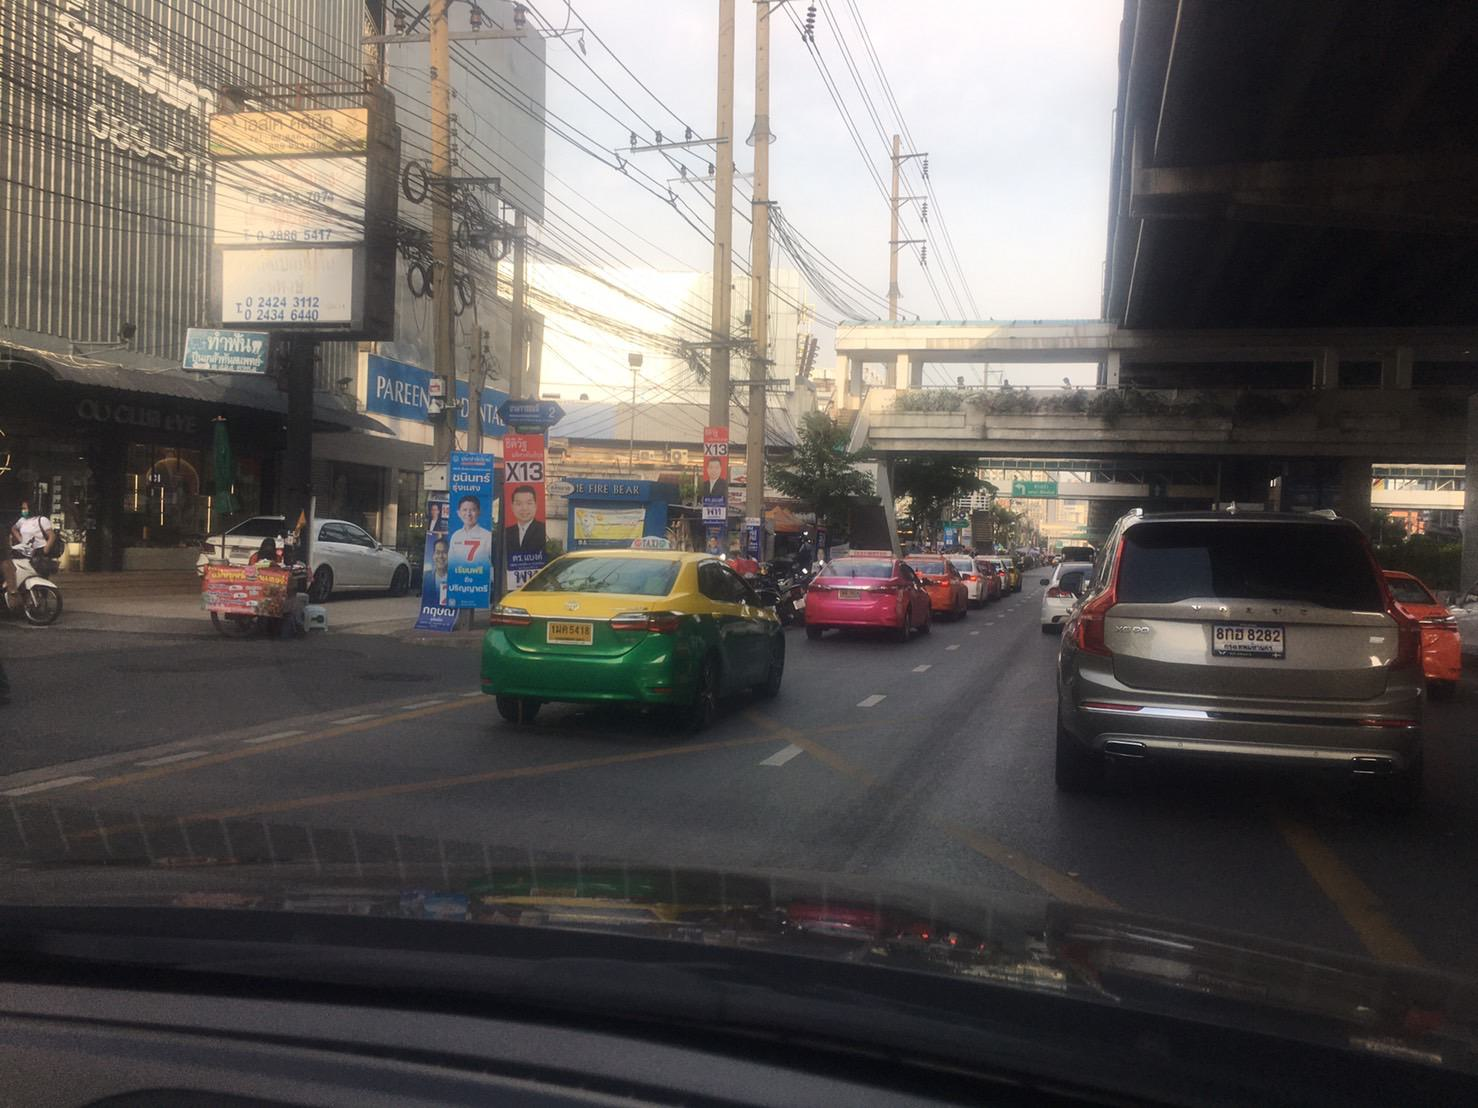Banner: (443, 438, 500, 618), (504, 433, 553, 596), (697, 425, 734, 527)
